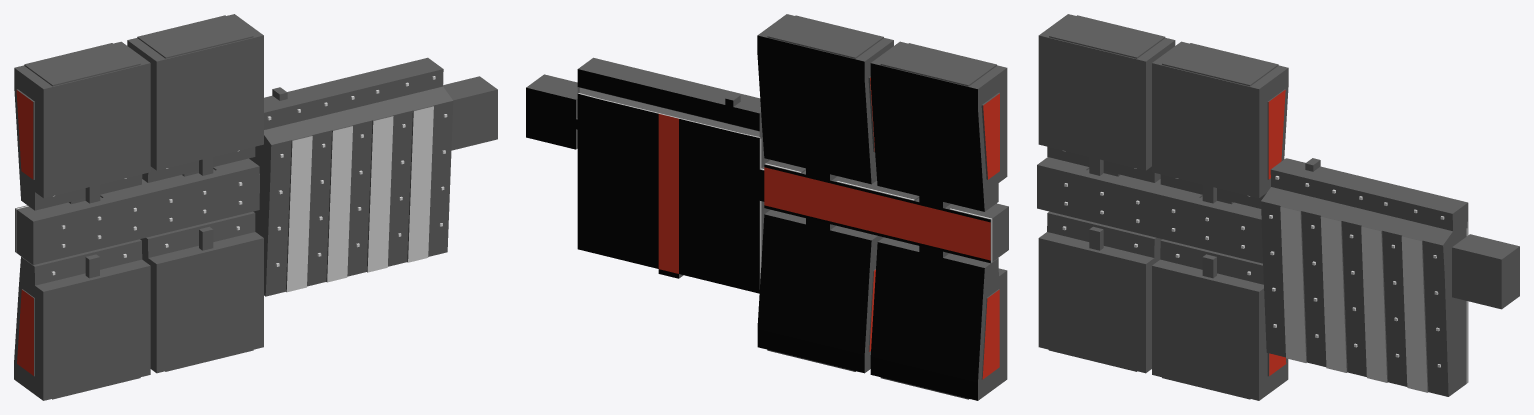
The model's file is BaseCine_4Salasv1.fbx.
3 renders of one model, left to right at view 1: azimuth 30°, elevation 25°; view 2: azimuth 150°, elevation 25°; view 3: azimuth 330°, elevation 25°, orthographic.
Visible parts, largest first — view 1: SalaCentral, Sala 2, Sala 9, Sala 1, Sala 10, Pasillo, LucesCentral; view 2: SalaCentral, Sala 2, Sala 9, Sala 1, Sala 10, Pasillo; view 3: SalaCentral, Sala 1, Sala 2, Sala 10, Sala 9, Pasillo, LucesCentral.
Boxes of the visible parts, left/top/right/bottom form: SalaCentral: left=249, top=57, right=497, bottom=296; Sala 2: left=14, top=41, right=150, bottom=210; Sala 9: left=14, top=239, right=150, bottom=400; Sala 1: left=127, top=14, right=263, bottom=182; Sala 10: left=140, top=211, right=263, bottom=373; Pasillo: left=15, top=158, right=259, bottom=265; LucesCentral: left=267, top=76, right=447, bottom=266; SalaCentral: left=526, top=57, right=770, bottom=293; Sala 2: left=870, top=41, right=1007, bottom=211; Sala 9: left=870, top=237, right=1007, bottom=400; Sala 1: left=757, top=14, right=893, bottom=184; Sala 10: left=757, top=210, right=883, bottom=373; Pasillo: left=759, top=160, right=1008, bottom=263; SalaCentral: left=1261, top=158, right=1519, bottom=396; Sala 1: left=1152, top=41, right=1288, bottom=208; Sala 2: left=1038, top=14, right=1175, bottom=182; Sala 10: left=1152, top=239, right=1288, bottom=400; Sala 9: left=1038, top=211, right=1162, bottom=373; Pasillo: left=1037, top=157, right=1262, bottom=263; LucesCentral: left=1269, top=176, right=1444, bottom=367.
Bounding box in the file's own units: 78 × 50.43 × 9.61.
